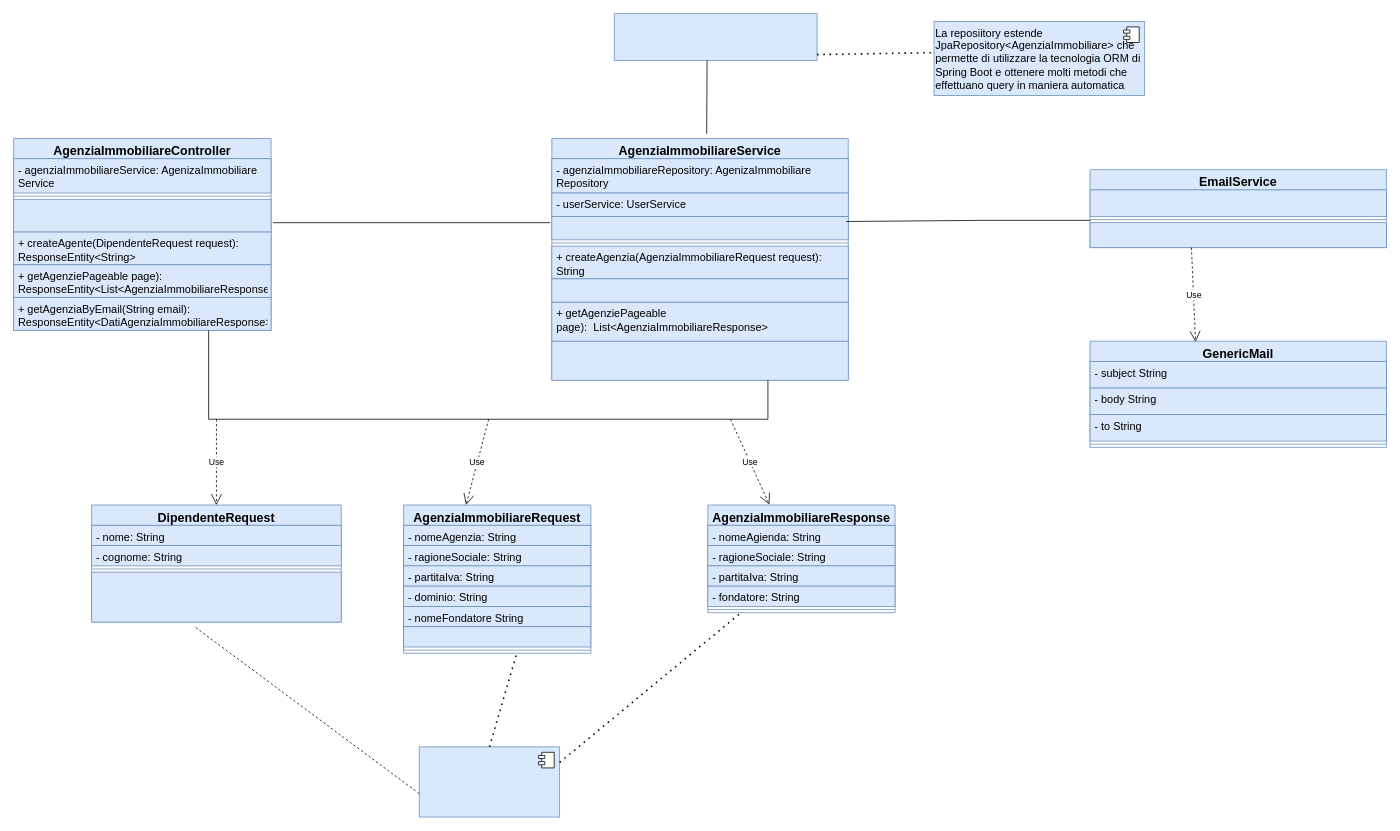
This 1400x831 diagram has some shape labels left out. The centre of each missing label's shape, as x and y in pixels:
"+ creaFondatoreAgenzia(AgenziaImmobiliareRequest): DipendenteRequest" belongs at [216,596].
"+ createAgente(DipendenteRequest request): String" belongs at [699,290].
"+ createAgenzia(AgenziaImmobiliareRequest request): ResponseEntity<String>" belongs at [142,215].
"+ getAgenziaByEmail(String email):DatiAgenziaImmobiliareResponse" belongs at [699,360].
"+sendVerificationMail(GenericMail mail): String" belongs at [1237,235].
"- cognomeFondatore String" belongs at [497,636].
"- emailService: EmailService" belongs at [699,228].
"- javaEmailSender: JavaMailSender" belongs at [1237,202].
"<<Interface>> AgenziaImmobiliareRepository" belongs at [715,36].
"Utilizzo della libreria lombock per i metodi get e set automatici" belongs at [489,781].
